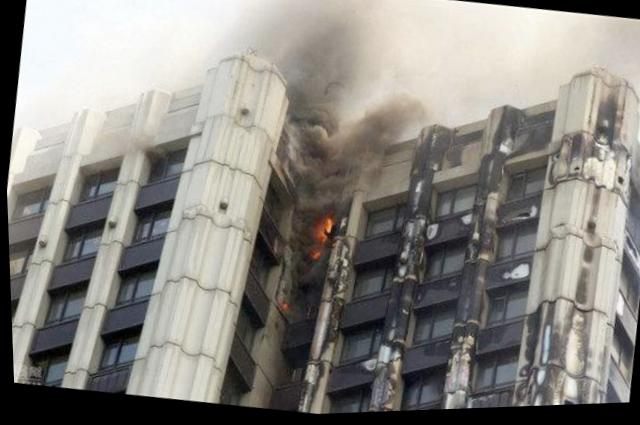fire: (296, 210, 340, 266), (280, 302, 290, 312)
